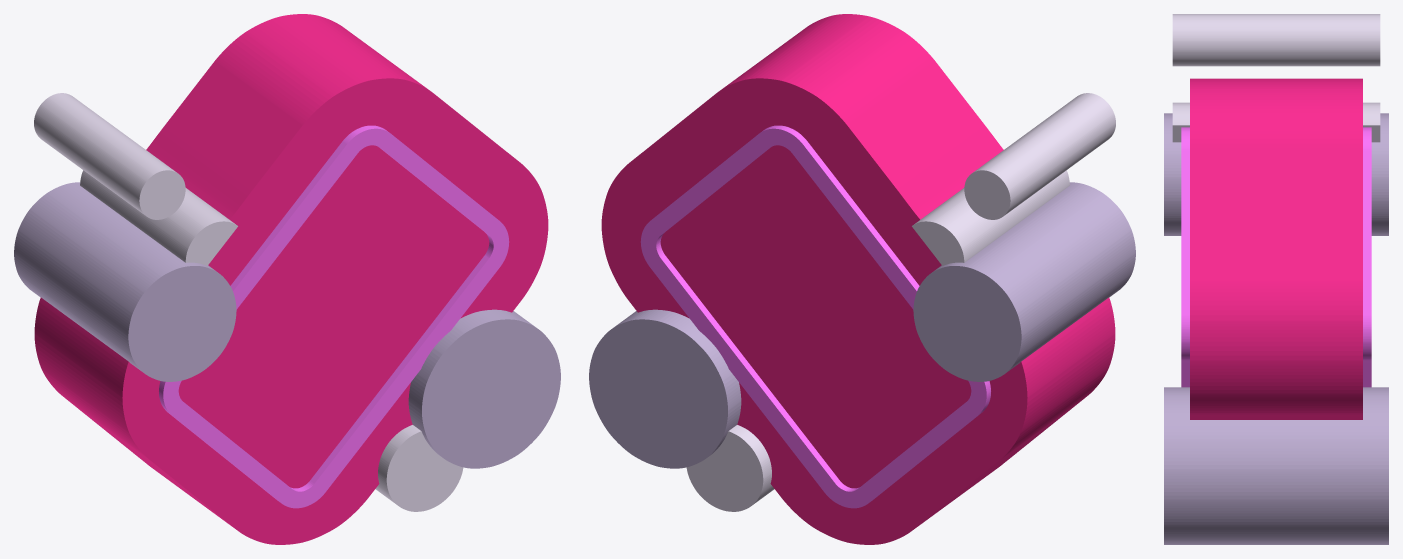
3 views of the same model, side by side, from view 1: azimuth 30°, elevation 25°; view 2: azimuth 150°, elevation 25°; view 3: azimuth 270°, elevation 25° (orthographic).
Parts seen in each view (by area): view 1: U+1F9FC_layer00_obj00, U+1F9FC_layer03_obj00, U+1F9FC_layer02_obj00, U+1F9FC_layer01_obj00; view 2: U+1F9FC_layer00_obj00, U+1F9FC_layer03_obj00, U+1F9FC_layer02_obj00, U+1F9FC_layer01_obj00; view 3: U+1F9FC_layer00_obj00, U+1F9FC_layer03_obj00, U+1F9FC_layer02_obj00, U+1F9FC_layer01_obj00.
Part boxes in pixels (x1,y1,x2,y2): U+1F9FC_layer00_obj00: [34, 14, 548, 544]; U+1F9FC_layer03_obj00: [14, 182, 560, 468]; U+1F9FC_layer02_obj00: [34, 93, 463, 511]; U+1F9FC_layer01_obj00: [159, 125, 509, 508]; U+1F9FC_layer00_obj00: [601, 14, 1115, 544]; U+1F9FC_layer03_obj00: [589, 182, 1135, 468]; U+1F9FC_layer02_obj00: [686, 93, 1115, 511]; U+1F9FC_layer01_obj00: [640, 125, 990, 508]; U+1F9FC_layer00_obj00: [1190, 78, 1362, 419]; U+1F9FC_layer03_obj00: [1164, 113, 1388, 544]; U+1F9FC_layer02_obj00: [1172, 14, 1380, 142]; U+1F9FC_layer01_obj00: [1181, 127, 1371, 387].
Size of the model in its own units: 0.5687 by 0.559 by 0.26.
